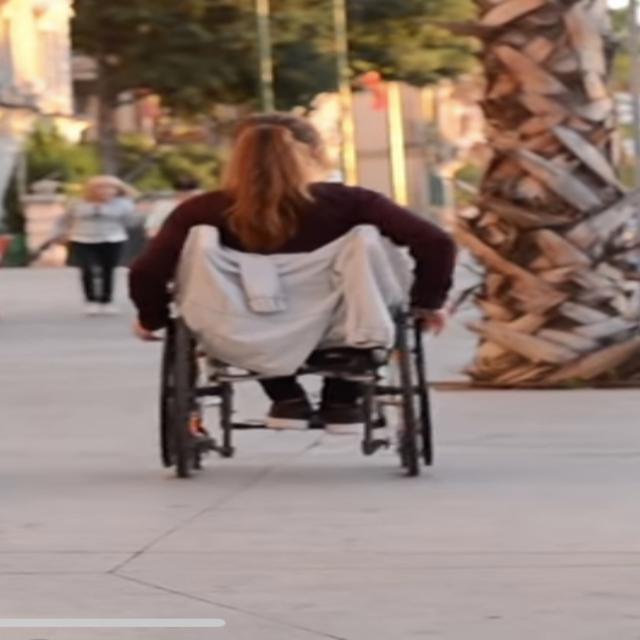wheelchairs: (160, 224, 437, 477)
